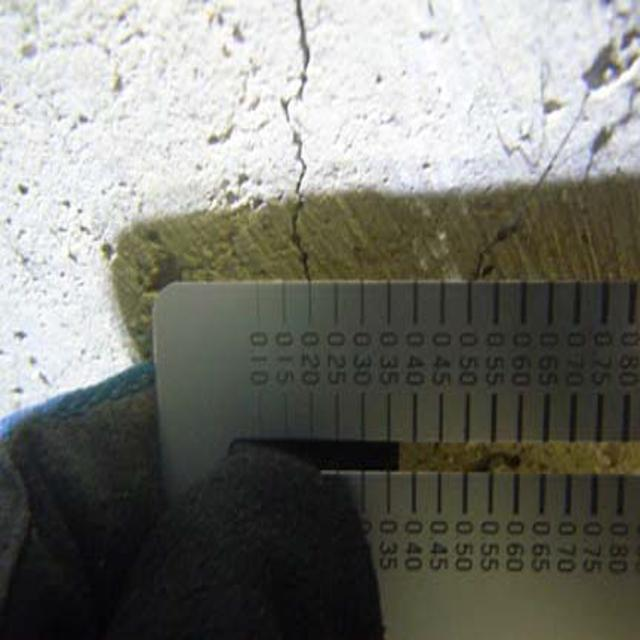crack: (276, 7, 324, 279)
